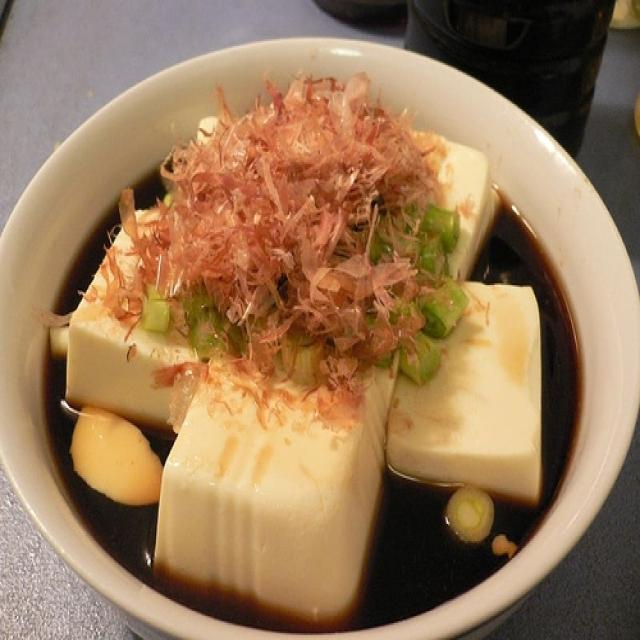豆腐料理: (65, 96, 585, 566)
